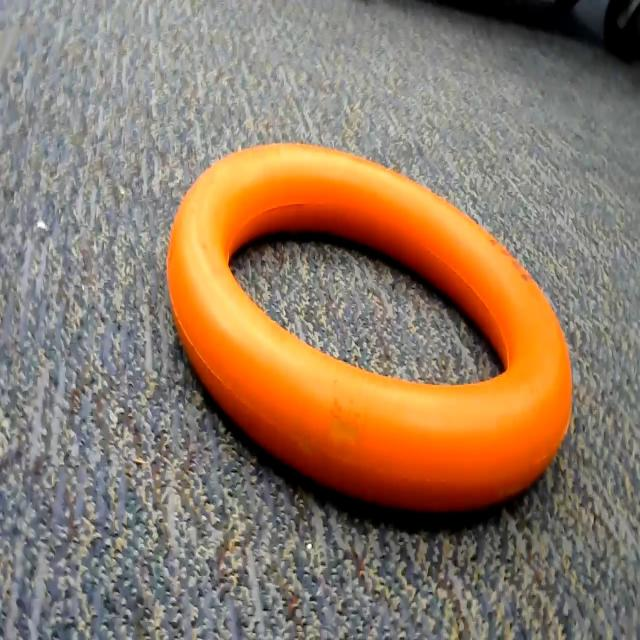note: (159, 130, 588, 542)
